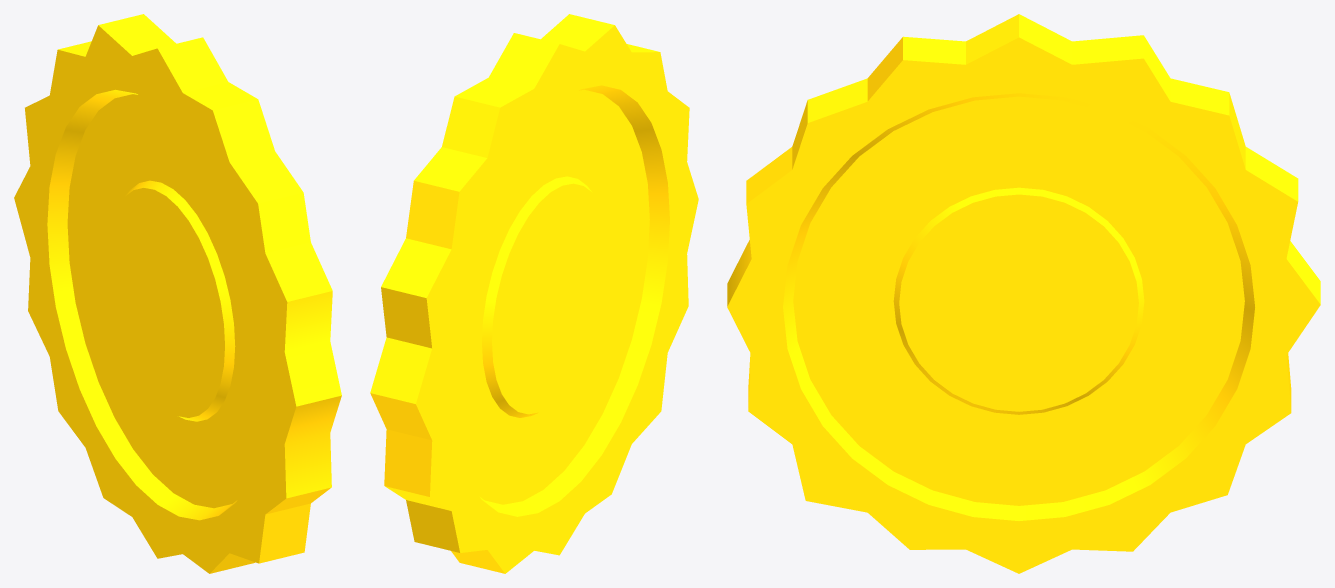
Rendered from Coin.fbx.
The picture shows the model from 3 angles, left to right: view 1: azimuth 30°, elevation 25°; view 2: azimuth 150°, elevation 25°; view 3: azimuth 270°, elevation 25°; orthographic projection. The views are drawn at different scales.
Visible parts, largest first — view 1: Cylinder; view 2: Cylinder; view 3: Cylinder.
Boxes of the visible parts, x1,y1,x2,y2 form: Cylinder: (14,14,341,573); Cylinder: (370,14,698,573); Cylinder: (727,14,1320,573).
Bounding box in the file's own units: 22.1 × 236 × 237.
